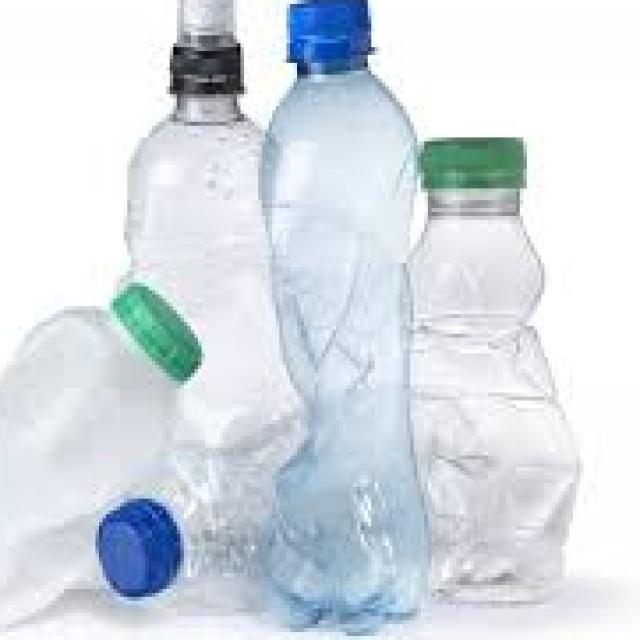organic: (0, 13, 598, 617)
